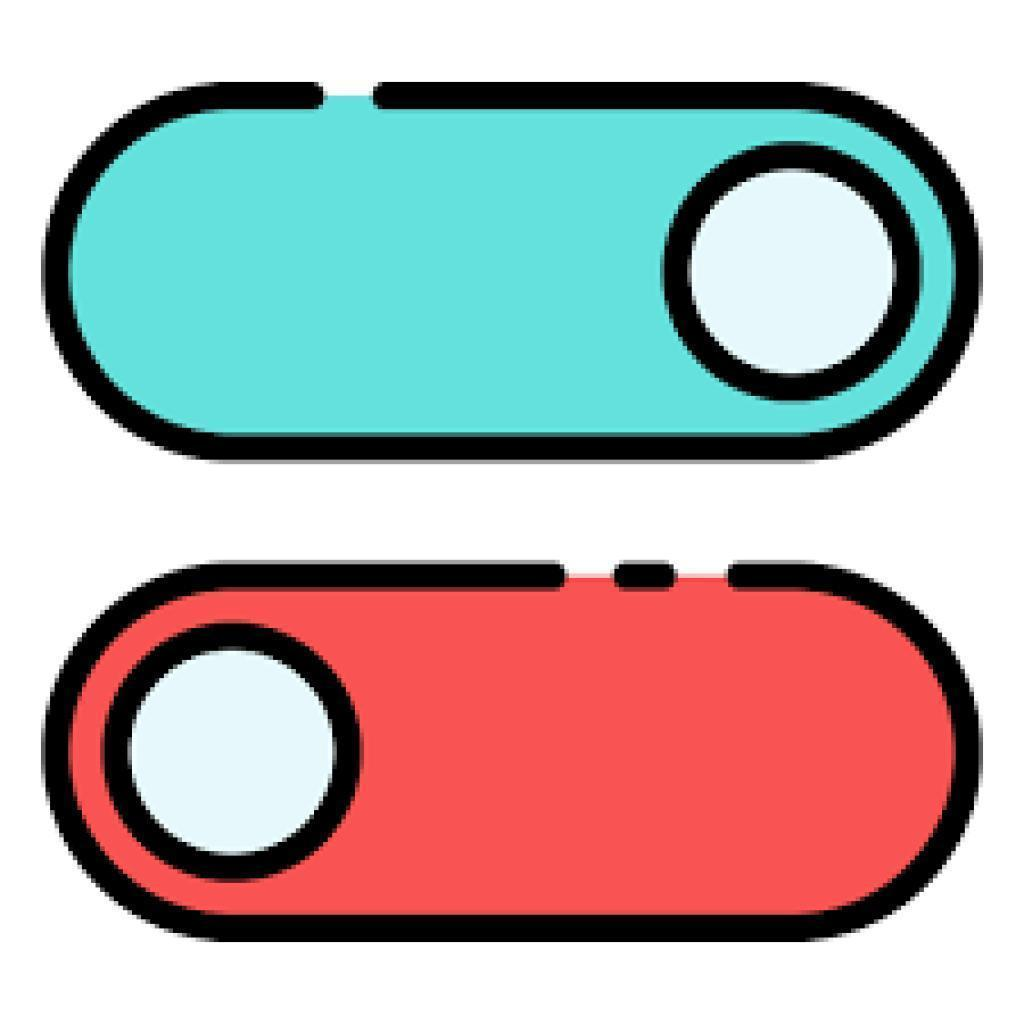switch: (27, 541, 989, 958), (34, 60, 991, 474)
